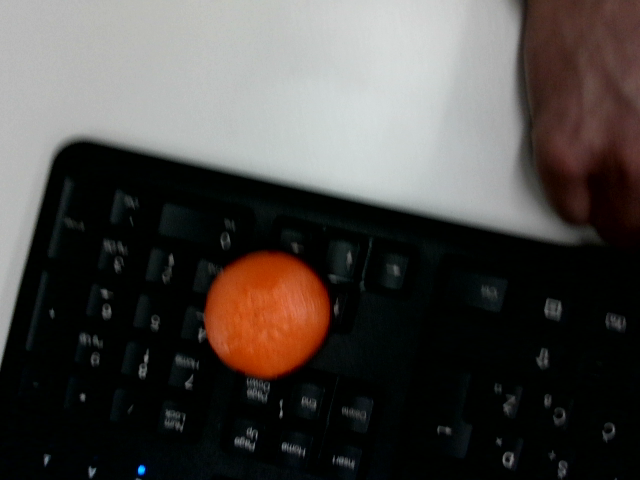orange: (183, 231, 350, 396)
